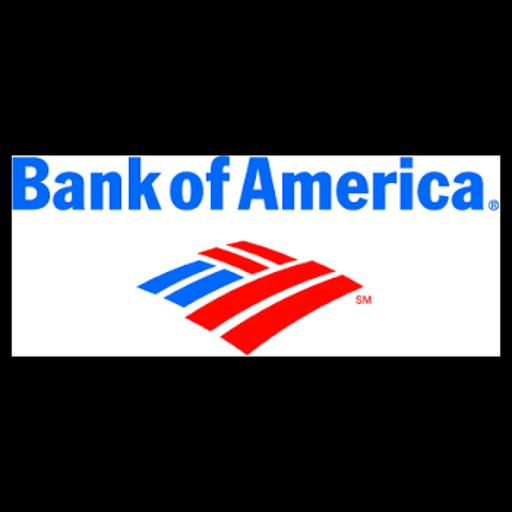Bank of America: (0, 151, 512, 361)
